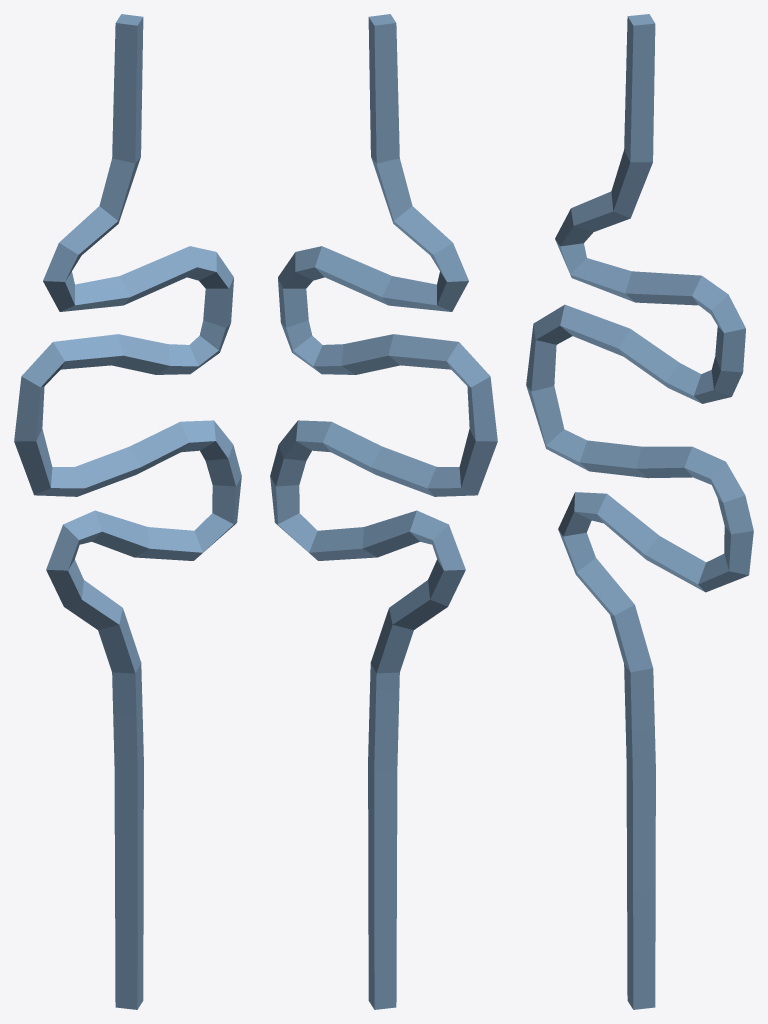
The model's file is SM_Prop_Straw_03.obj.
3 views of the same model, side by side, from view 1: azimuth 30°, elevation 25°; view 2: azimuth 150°, elevation 25°; view 3: azimuth 330°, elevation 25° (orthographic).
Parts seen in each view (by area): view 1: SM_Prop_Straw_03_0; view 2: SM_Prop_Straw_03_0; view 3: SM_Prop_Straw_03_0.
Part boxes in pixels (x1,y1,x2,y2): SM_Prop_Straw_03_0: (14, 14, 241, 1009); SM_Prop_Straw_03_0: (270, 14, 497, 1009); SM_Prop_Straw_03_0: (526, 14, 753, 1009).
Size of the model in its own units: 0.0894 by 0.3694 by 0.0115.
1 material, 1 textured.
